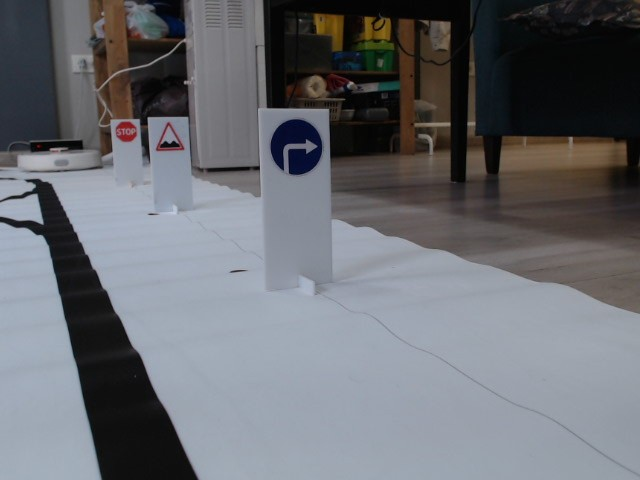Nerov: (157, 120, 185, 152)
Right: (267, 117, 323, 176)
Stop: (115, 120, 138, 142)
